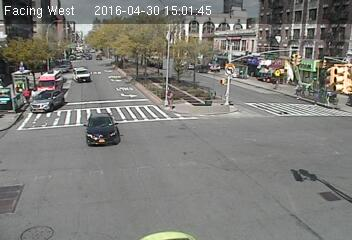neg: (47, 68, 57, 82)
pos: (292, 80, 309, 104), (161, 87, 178, 110), (19, 83, 36, 105), (272, 77, 286, 95)
